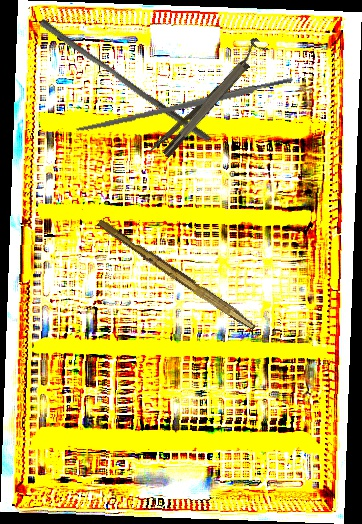Fixation Ring: (155, 35, 270, 161)
Pusher: (34, 17, 217, 144), (147, 60, 251, 157)
Scalpel Handle: (94, 217, 260, 332), (74, 75, 297, 136)
